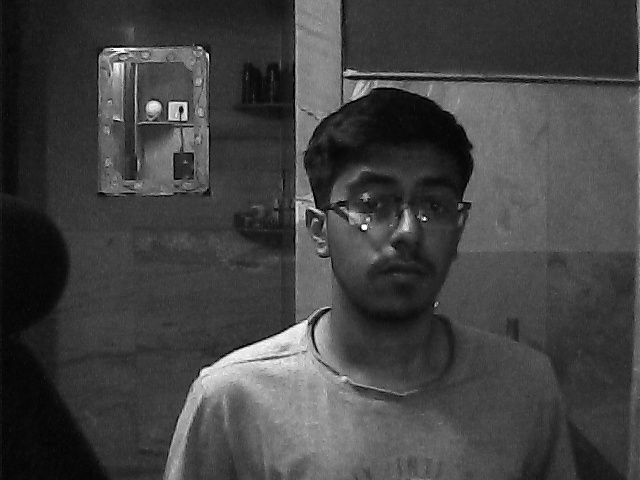nomask: (321, 134, 468, 326)
